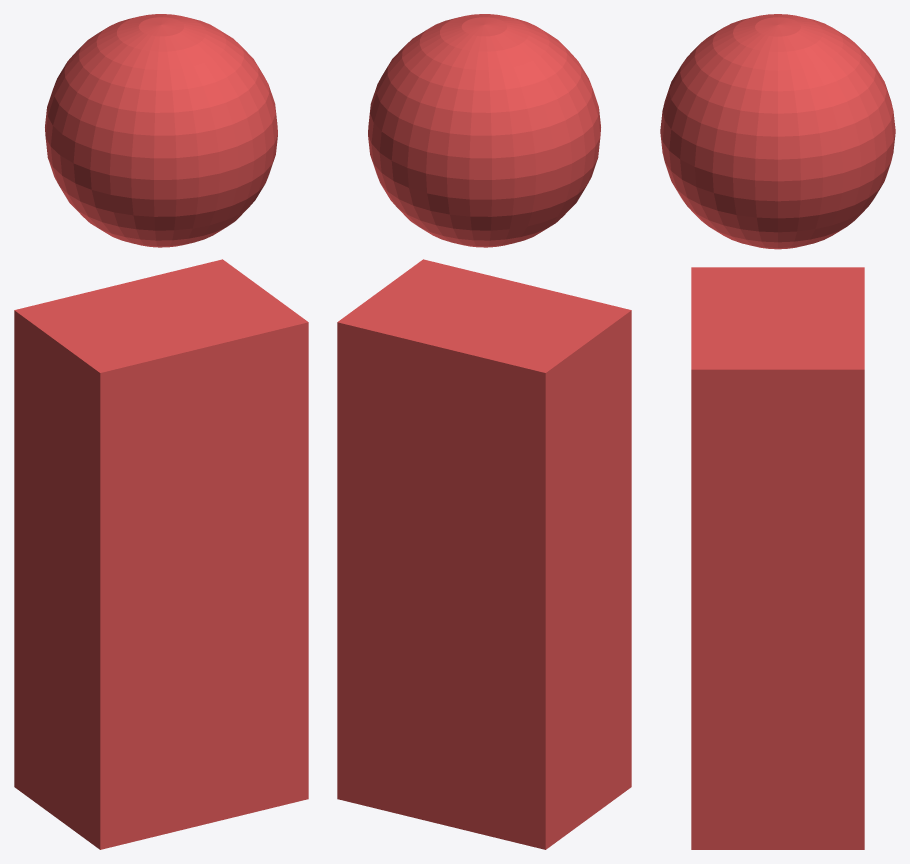
The model's file is monster_boss.glb.
3 renders of one model, left to right at view 1: azimuth 30°, elevation 25°; view 2: azimuth 150°, elevation 25°; view 3: azimuth 270°, elevation 25°, orthographic.
Visible parts, largest first — view 1: monster_boss; view 2: monster_boss; view 3: monster_boss.
Part boxes in pixels (bbox=[...]): monster_boss: bbox=[14, 14, 308, 849]; monster_boss: bbox=[337, 14, 631, 849]; monster_boss: bbox=[660, 14, 895, 849].
Bounding box in the file's own units: 0.35 × 1.23 × 0.34.
